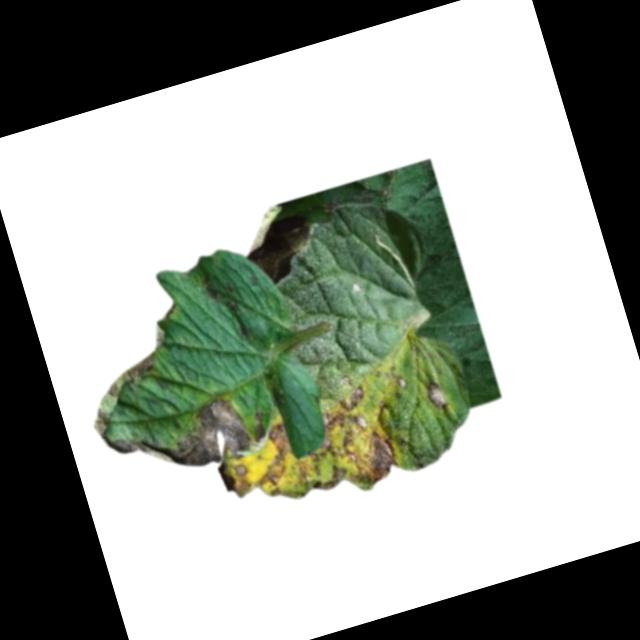Early_blight: (214, 382, 403, 529), (108, 386, 273, 492), (67, 320, 186, 435), (238, 196, 323, 288), (421, 376, 447, 408)
